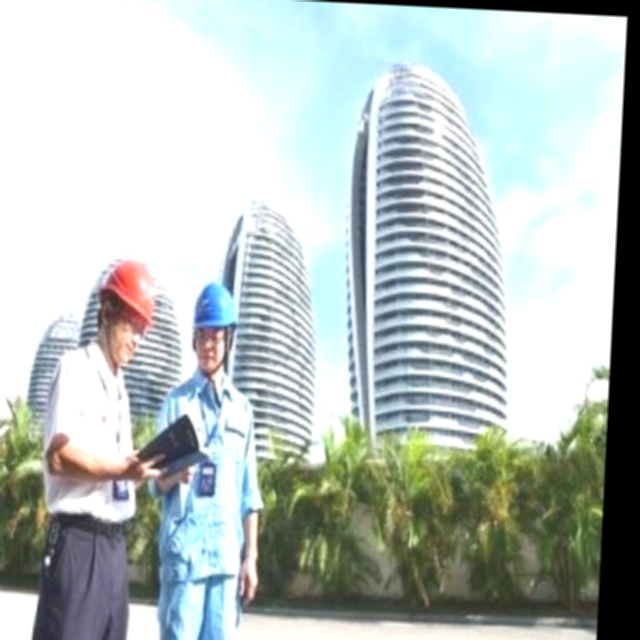Con_Casco: (93, 255, 159, 367), (186, 279, 242, 374)
